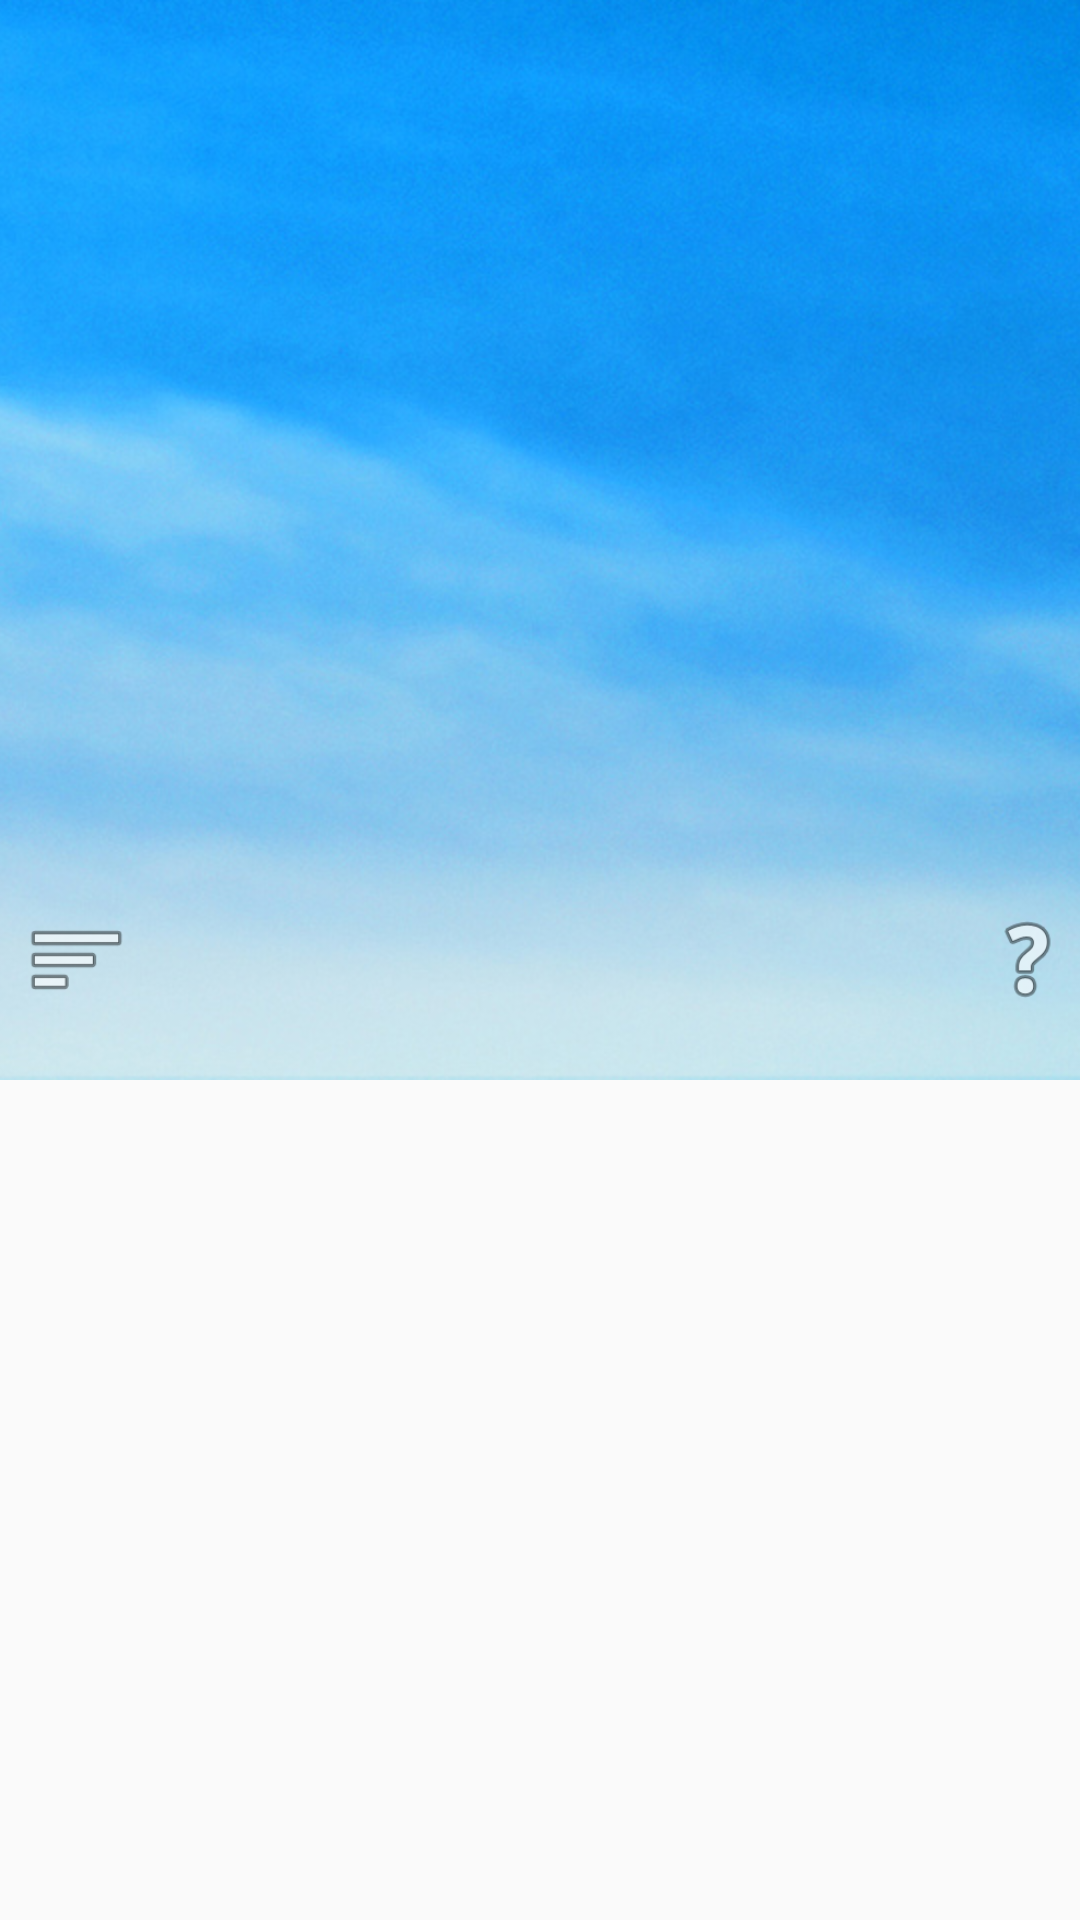

Icons on this 1080*1920 Android screen, each with its box as (x1, y1, x2, y2):
help: (1004, 922, 1051, 997)
sort by size: (31, 908, 123, 990)
